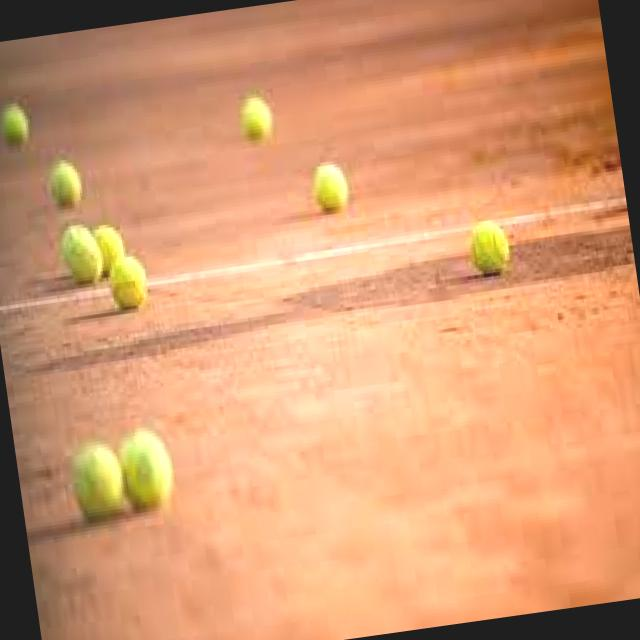Tennis Ball: (119, 427, 175, 513), (71, 444, 125, 524), (61, 224, 106, 287), (466, 223, 514, 280), (108, 253, 149, 314), (44, 159, 85, 216), (237, 90, 277, 148), (310, 161, 352, 215), (90, 224, 127, 281), (0, 103, 32, 154)
